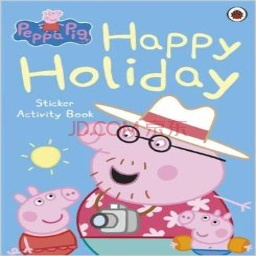Peppa: (13, 185, 80, 256)
